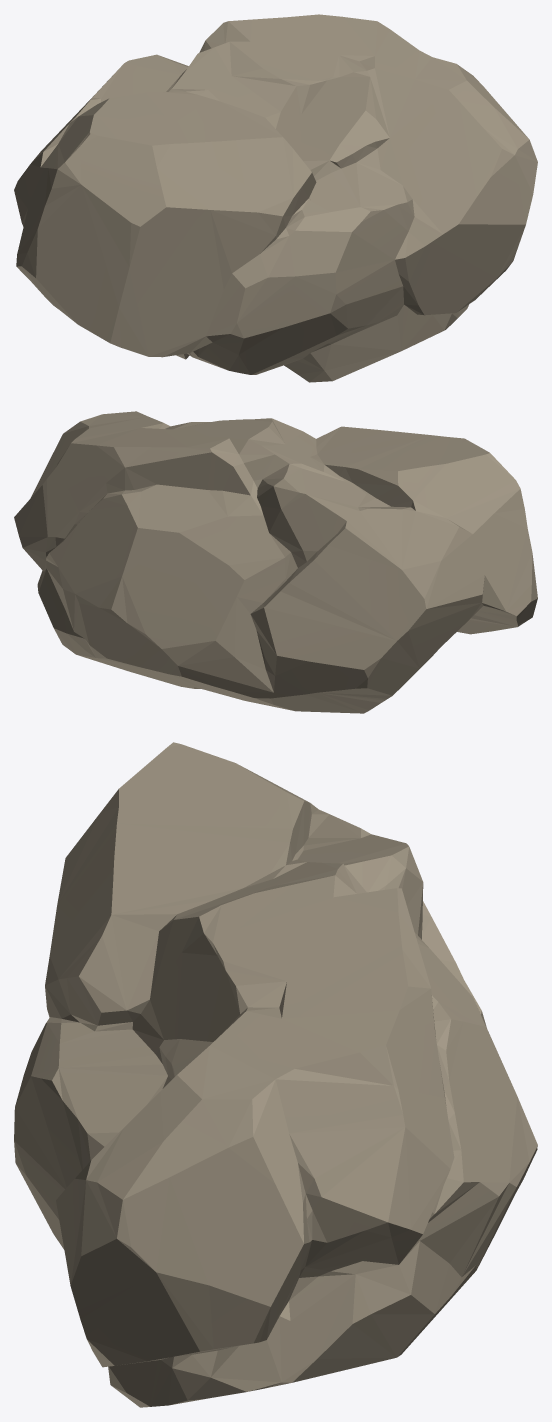
Rendered from nat_Rock_Pile_01.glb.
3 renders of one model, top to bottom at view 1: azimuth 30°, elevation 25°; view 2: azimuth 150°, elevation 25°; view 3: azimuth 270°, elevation 25°, orthographic. The views are drawn at different scales.
Parts seen in each view (by area): view 1: SM_Rock_Pile_01; view 2: SM_Rock_Pile_01; view 3: SM_Rock_Pile_01.
Part boxes in pixels (x1,y1,x2,y2): SM_Rock_Pile_01: (14,14,537,382); SM_Rock_Pile_01: (14,411,537,713); SM_Rock_Pile_01: (14,742,537,1407).
Size of the model in its own units: 6.62 by 3.89 by 4.02.
1 material, 1 textured.
